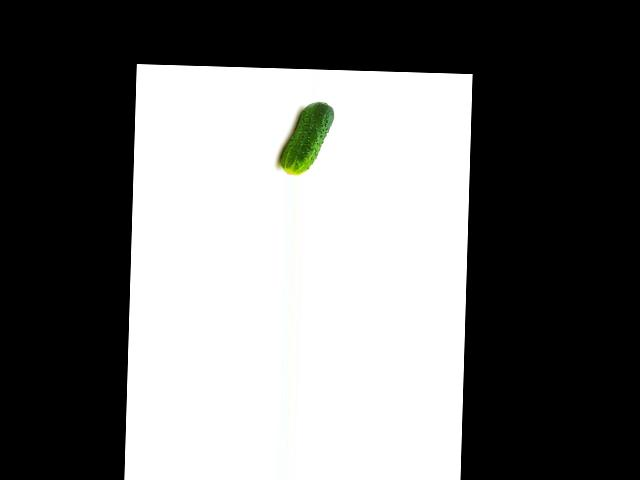cucumber: (279, 100, 334, 176)
